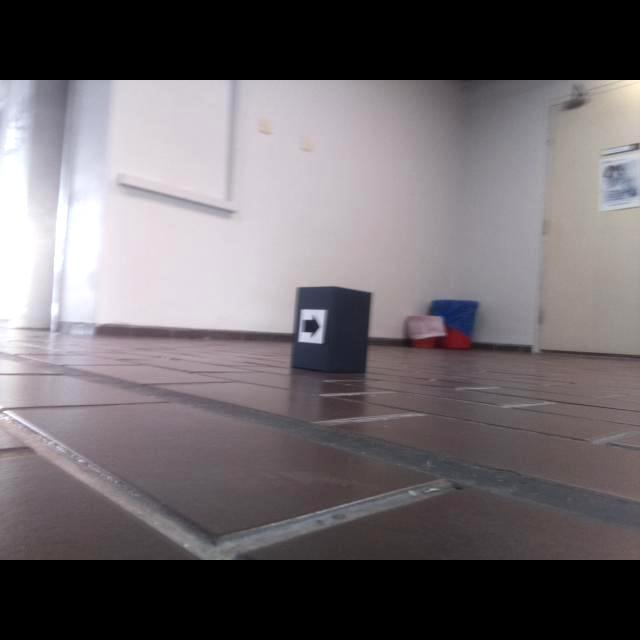RIGHT: (301, 313, 322, 340)
